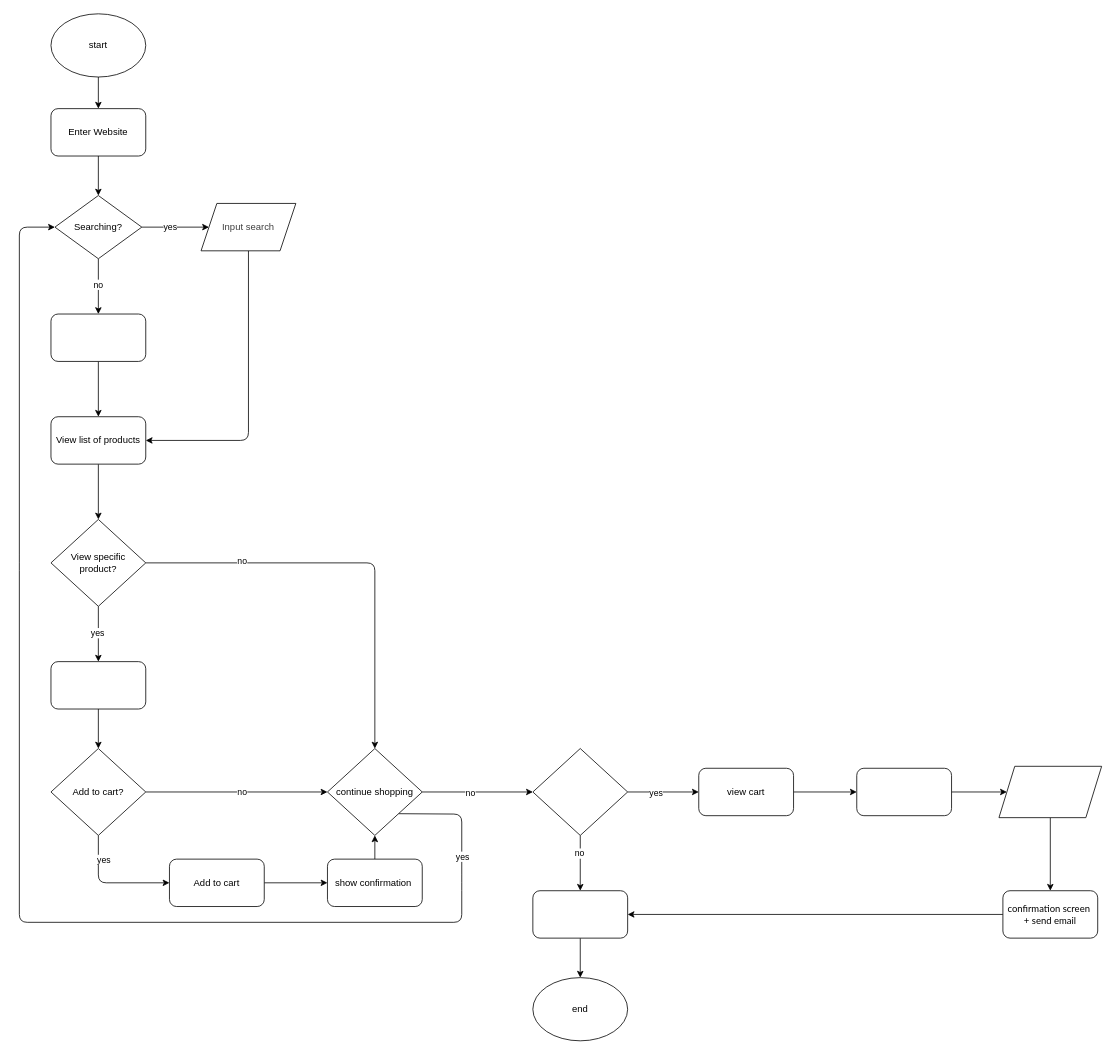
Image size: 1115x1055. Some labels were removed from this diagram. Each missing label, with the centre of its shape:
"checkout?" belongs at point 580,791.
"Explore products on home page" belongs at point 98,337.
"leave website" belongs at point 580,914.
"open page" belongs at point 98,685.
"payment information" belongs at point 1050,792.
"view payment" belongs at point 904,791.
